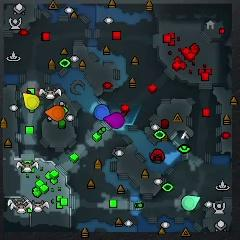p1: (94, 104, 110, 120)
p2: (182, 195, 201, 210)
p3: (105, 112, 124, 129)
p4: (23, 92, 39, 110)
p5: (45, 105, 65, 121)
